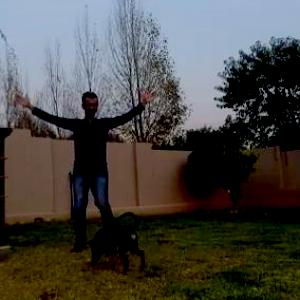takeoff: (1, 75, 159, 263)
